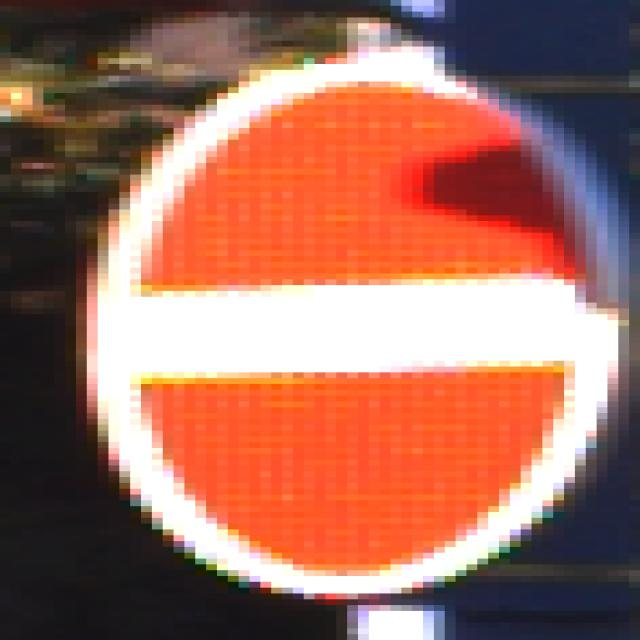No Entry: (55, 53, 587, 583)
